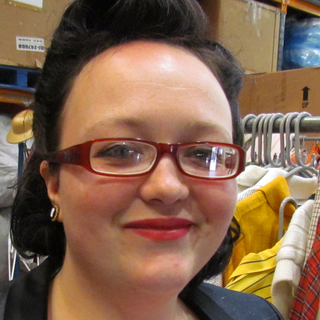eye: (97, 140, 144, 163), (184, 144, 223, 168)
